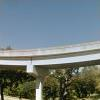Bridge: (4, 35, 97, 82)
